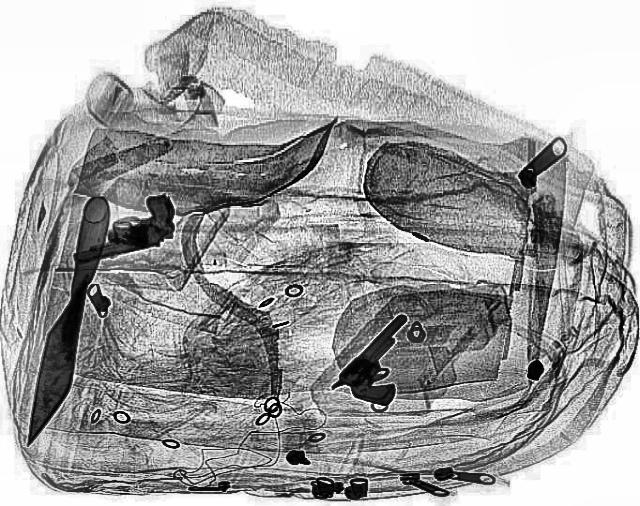Gun: (326, 312, 452, 412), (54, 191, 188, 265)
Knife: (9, 194, 130, 448)
